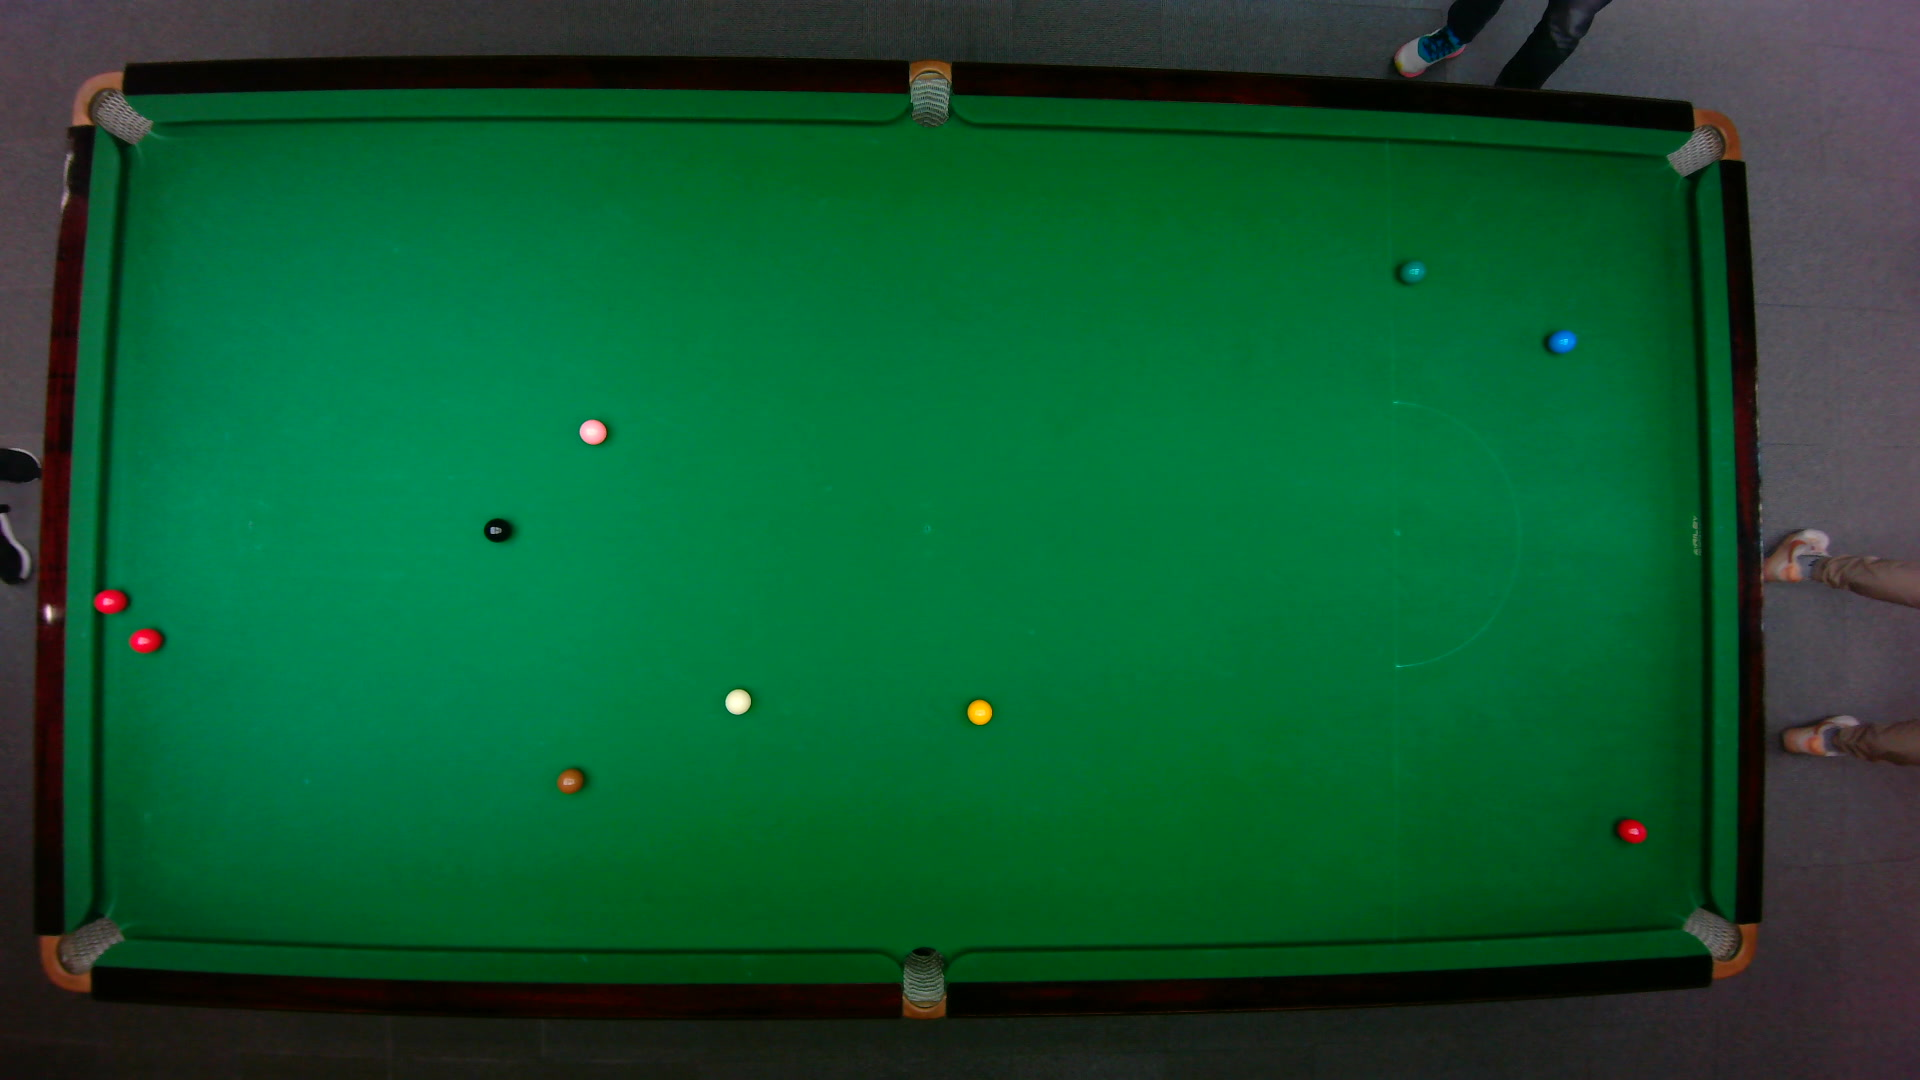bag: (37, 914, 125, 992), (70, 69, 153, 145), (1677, 905, 1756, 978), (1663, 107, 1741, 177), (901, 944, 944, 1021), (909, 57, 949, 128)
black: (483, 516, 512, 542)
blue: (1545, 327, 1577, 353)
brown: (555, 765, 585, 794)
green: (1396, 258, 1427, 284)
pink: (576, 415, 608, 446)
red: (90, 585, 128, 615), (127, 625, 164, 653), (1614, 818, 1648, 843)
white: (723, 687, 752, 713)
yellow: (964, 696, 993, 727)
zone: (1390, 400, 1520, 669)
